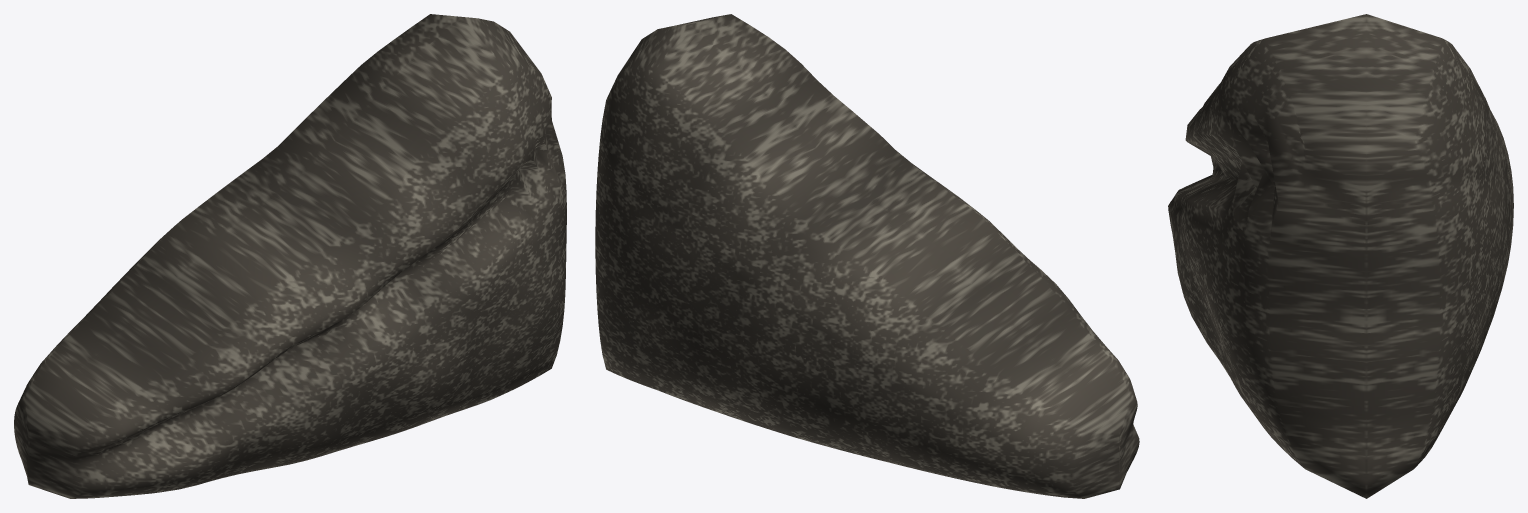
File: hachiko_right_boulder.glb
The picture shows the model from 3 angles, left to right: view 1: azimuth 30°, elevation 25°; view 2: azimuth 150°, elevation 25°; view 3: azimuth 270°, elevation 25°; orthographic projection. The views are drawn at different scales.
Visible parts, largest first — view 1: hachiko_right_boulder_study; view 2: hachiko_right_boulder_study; view 3: hachiko_right_boulder_study.
Boxes of the visible parts, <box> form: hachiko_right_boulder_study: <box>14,14,566,498</box>; hachiko_right_boulder_study: <box>595,14,1139,498</box>; hachiko_right_boulder_study: <box>1168,14,1513,498</box>.
Size of the model in its own units: 0.85 by 0.5783 by 0.4138.
1 material, 1 textured.
